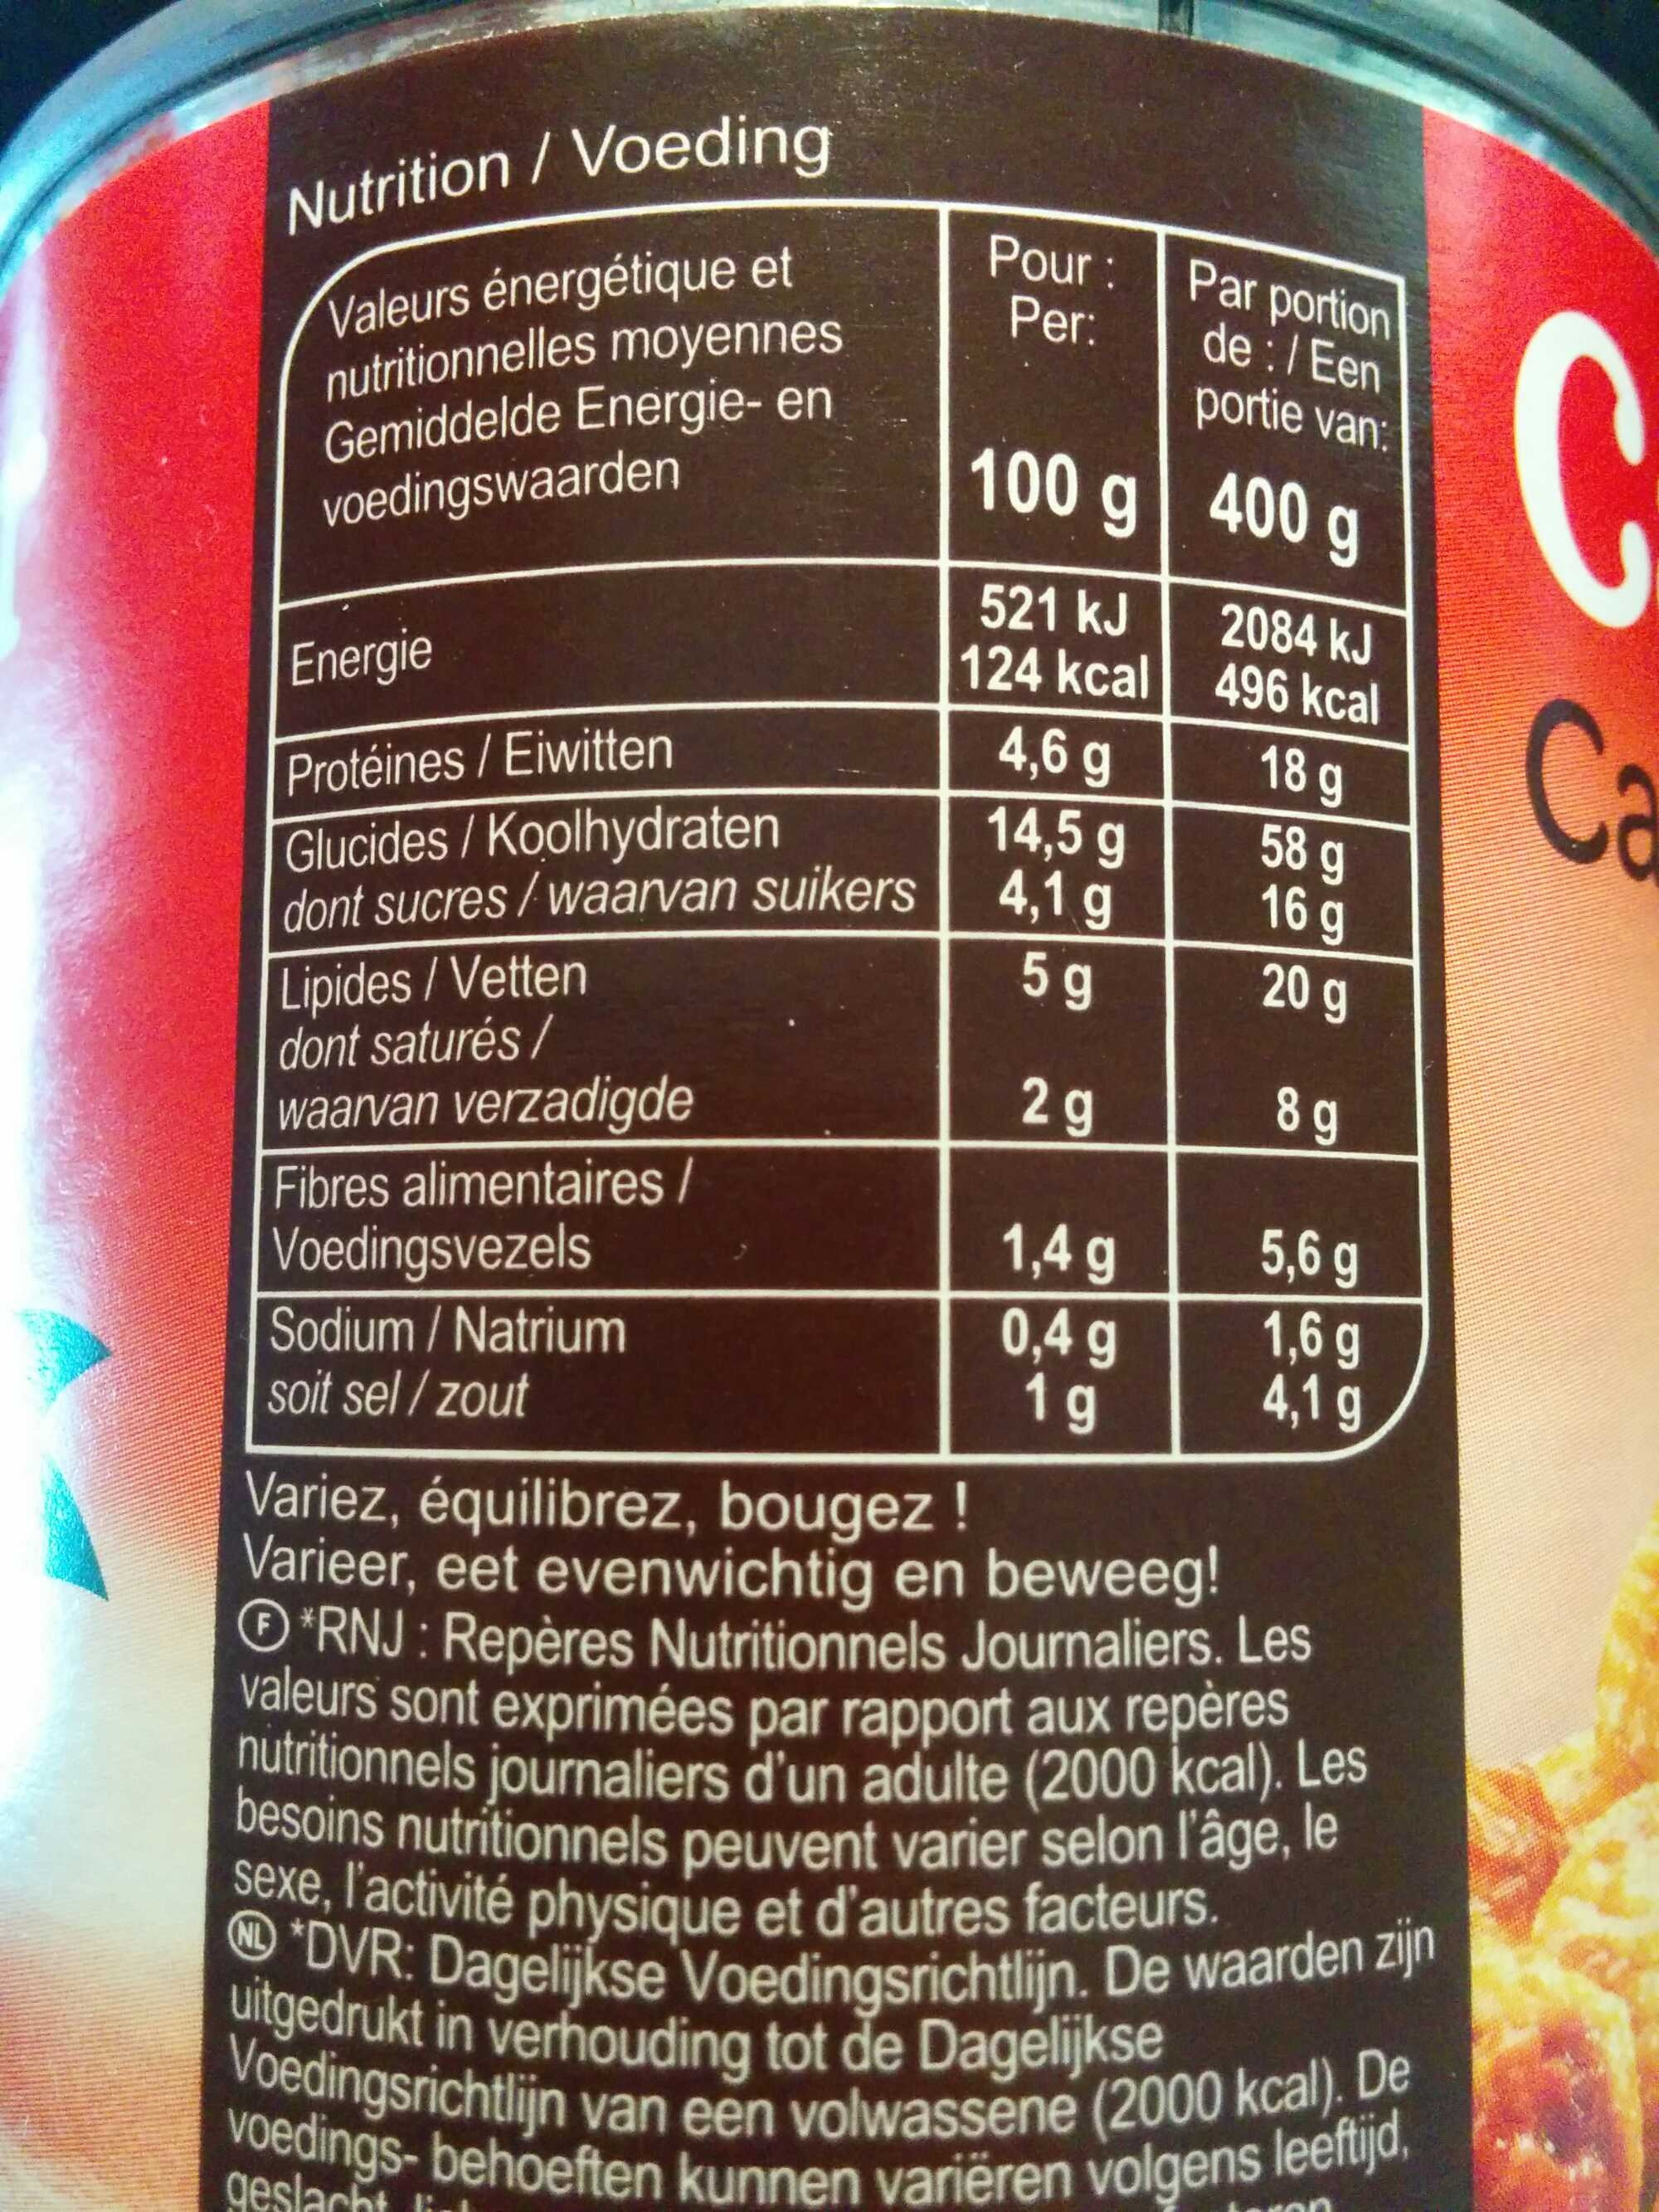column: (282, 246, 918, 1421), (1190, 239, 1401, 1436), (964, 232, 1154, 1433)
table: (260, 223, 1432, 1459)
